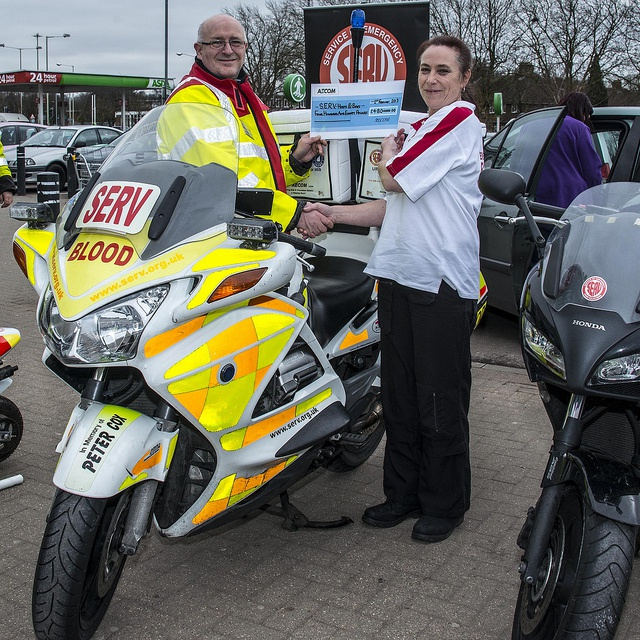non-vehicle: (8, 8, 489, 639), (477, 168, 638, 639), (0, 326, 24, 491)
